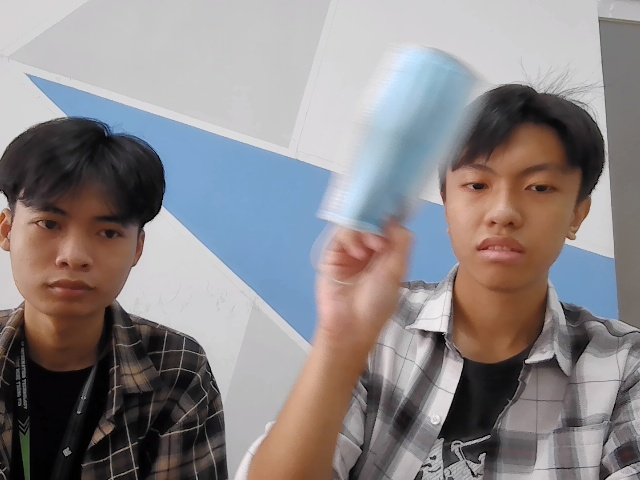human: (7, 105, 176, 325), (449, 81, 607, 291)
mask: (320, 30, 480, 246)
